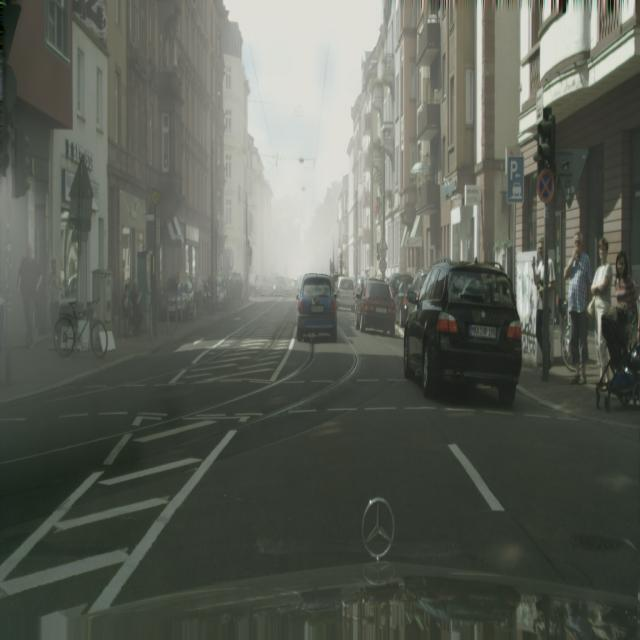bus: (563, 231, 592, 385), (603, 250, 639, 372), (532, 238, 558, 381), (590, 237, 613, 371), (613, 251, 639, 363), (17, 243, 42, 350), (48, 258, 62, 343), (131, 278, 143, 336), (122, 282, 132, 338)
person: (403, 259, 523, 407), (296, 274, 338, 342), (357, 278, 396, 336), (402, 268, 428, 328), (389, 272, 413, 328), (336, 277, 356, 311)
truck: (54, 300, 108, 358)
